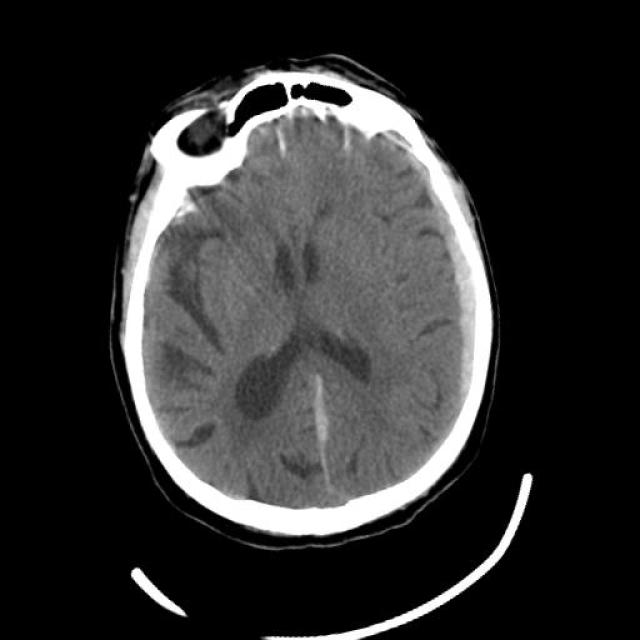Subdural: (391, 134, 518, 424), (249, 352, 396, 533)
